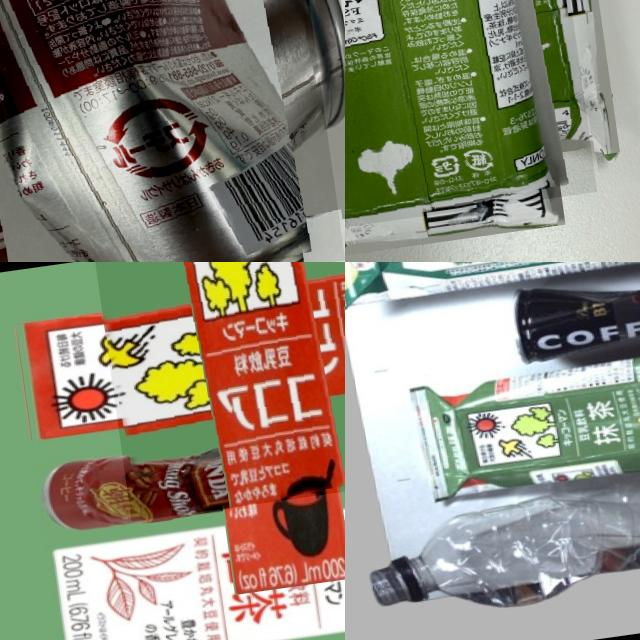Aluminium Foil: (94, 262, 345, 522), (345, 0, 596, 241), (43, 474, 345, 640), (407, 343, 640, 502)
Can: (0, 0, 344, 262), (35, 413, 334, 538), (503, 262, 640, 370)
Transparent Plastic Bottle: (363, 455, 640, 612)
